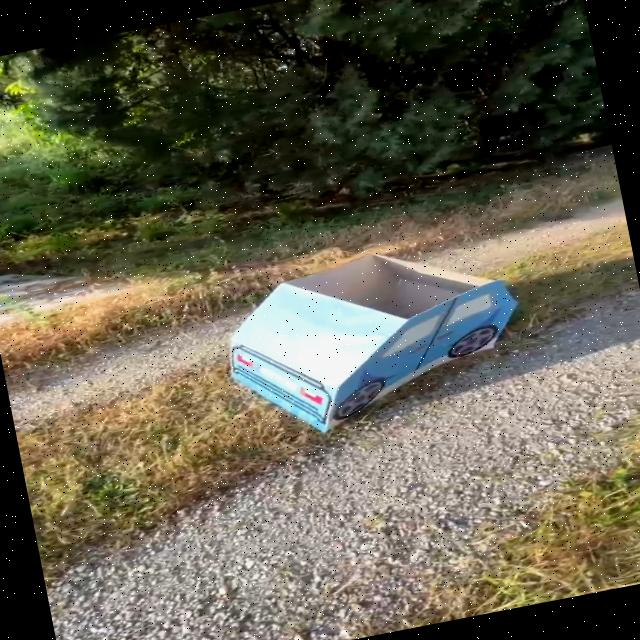blue_car: (172, 205, 562, 489)
